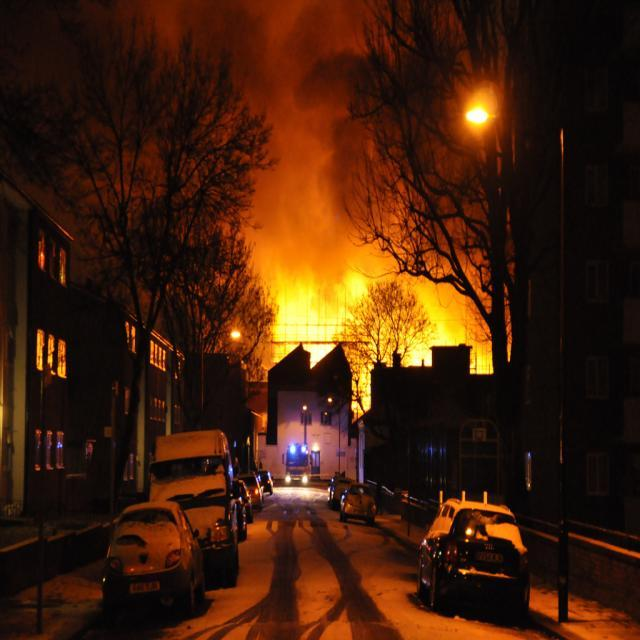Fire: (268, 276, 354, 370)
